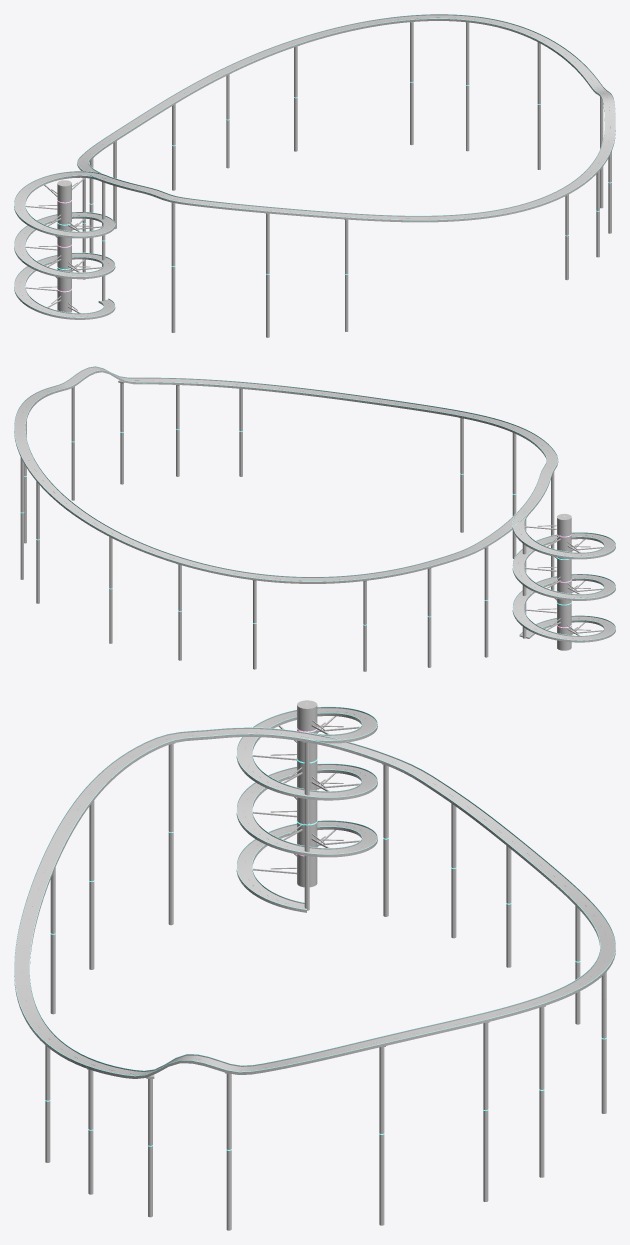
The model's file is City_SkyRoads.fbx.
3 renders of one model, top to bottom at view 1: azimuth 30°, elevation 25°; view 2: azimuth 150°, elevation 25°; view 3: azimuth 270°, elevation 25°, orthographic. The views are drawn at different scales.
Parts seen in each view (by area): view 1: City_SkyRoads_LOD0; view 2: City_SkyRoads_LOD0; view 3: City_SkyRoads_LOD0.
Part boxes in pixels (box(x1,y1,x2,y2)): City_SkyRoads_LOD0: box(14, 14, 615, 337); City_SkyRoads_LOD0: box(14, 366, 615, 671); City_SkyRoads_LOD0: box(14, 700, 615, 1230).
Size of what is drawn, in the model's own units: 793 by 181 by 528.
